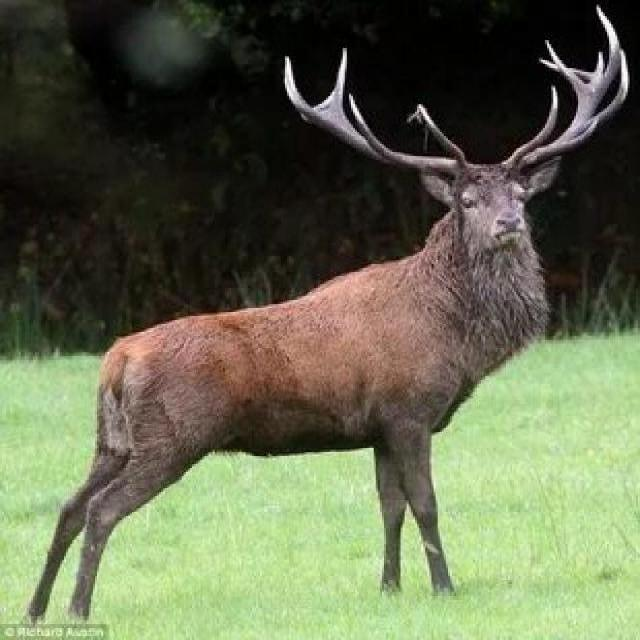deer: (6, 0, 640, 596)
